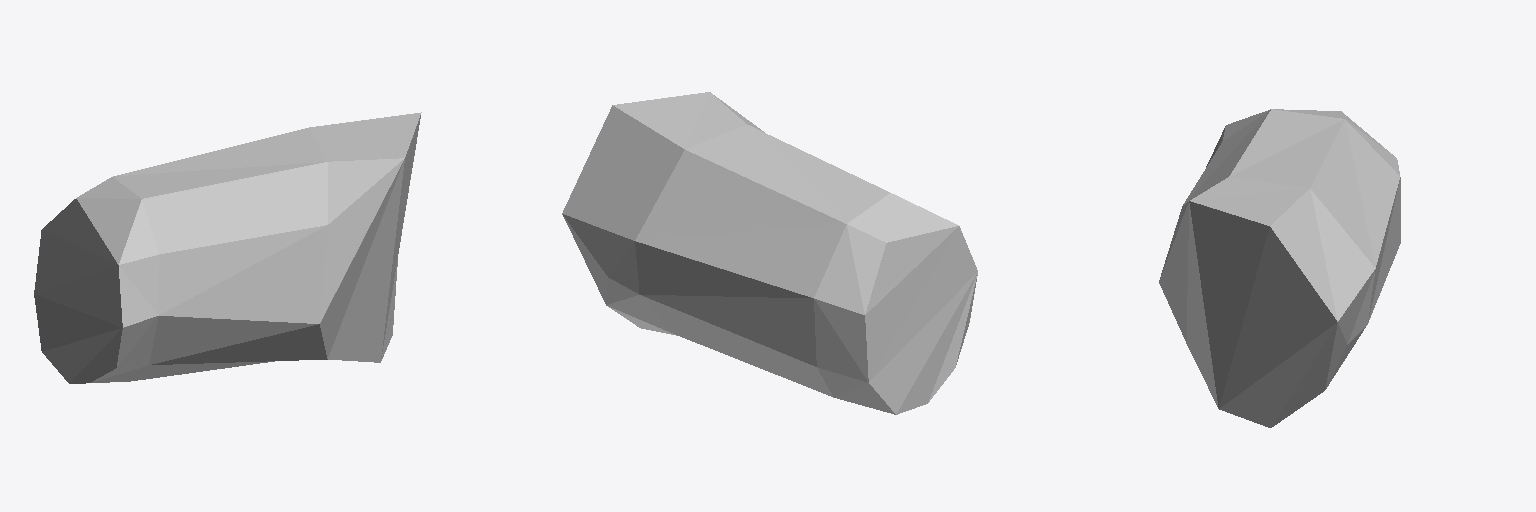
The model's file is pinky1.obj.
The picture shows the model from 3 angles: view 1: azimuth 30°, elevation 25°; view 2: azimuth 150°, elevation 25°; view 3: azimuth 270°, elevation 25°; orthographic projection.
Size of the model in its own units: 31.99 by 18.65 by 18.97.